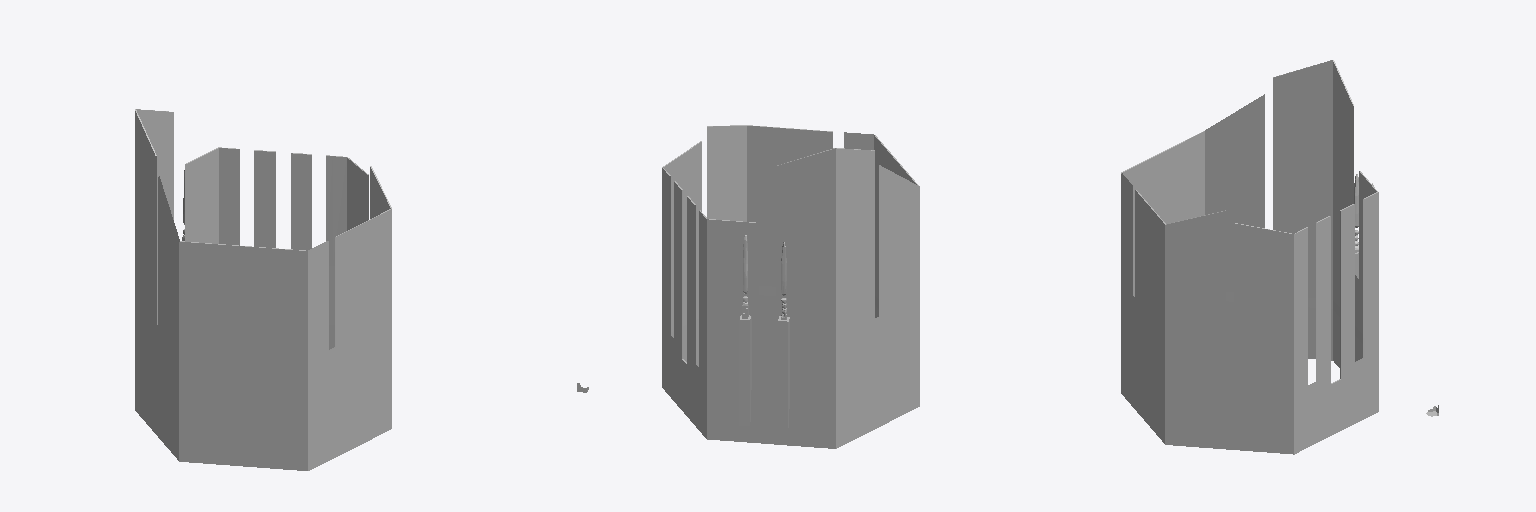
The model's file is centralTower.obj.
The picture shows the model from 3 angles: view 1: azimuth 30°, elevation 25°; view 2: azimuth 150°, elevation 25°; view 3: azimuth 270°, elevation 25°; orthographic projection.
Parts seen in each view (by area): view 1: central central _Courtyard_Elements; view 2: central central _Courtyard_Elements, central _Courtyard_Elements polySurface51; view 3: central central _Courtyard_Elements.
Part boxes in pixels (left/top/right/bottom): central central _Courtyard_Elements: left=135, top=109, right=391, bottom=470; central central _Courtyard_Elements: left=662, top=125, right=919, bottom=448; central _Courtyard_Elements polySurface51: left=577, top=234, right=789, bottom=427; central central _Courtyard_Elements: left=1121, top=60, right=1378, bottom=454.
Size of the model in its own units: 75.16 by 94.5 by 90.77.